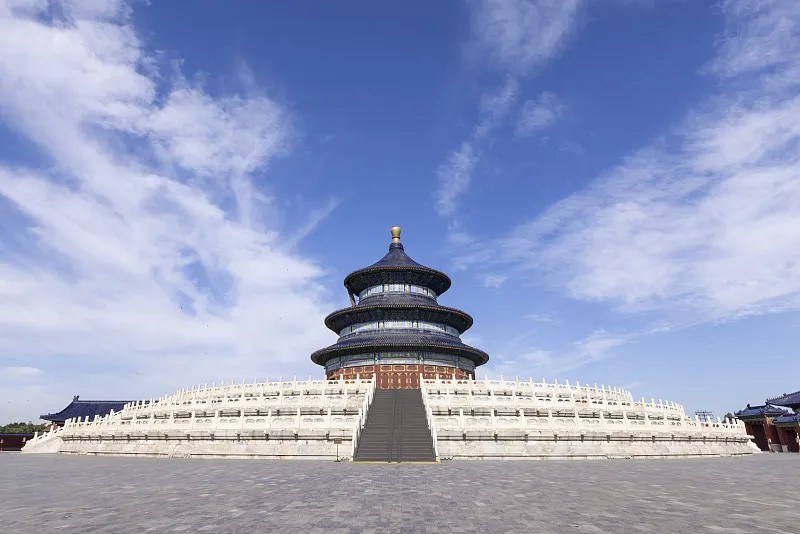Heaven: (310, 225, 490, 389)
